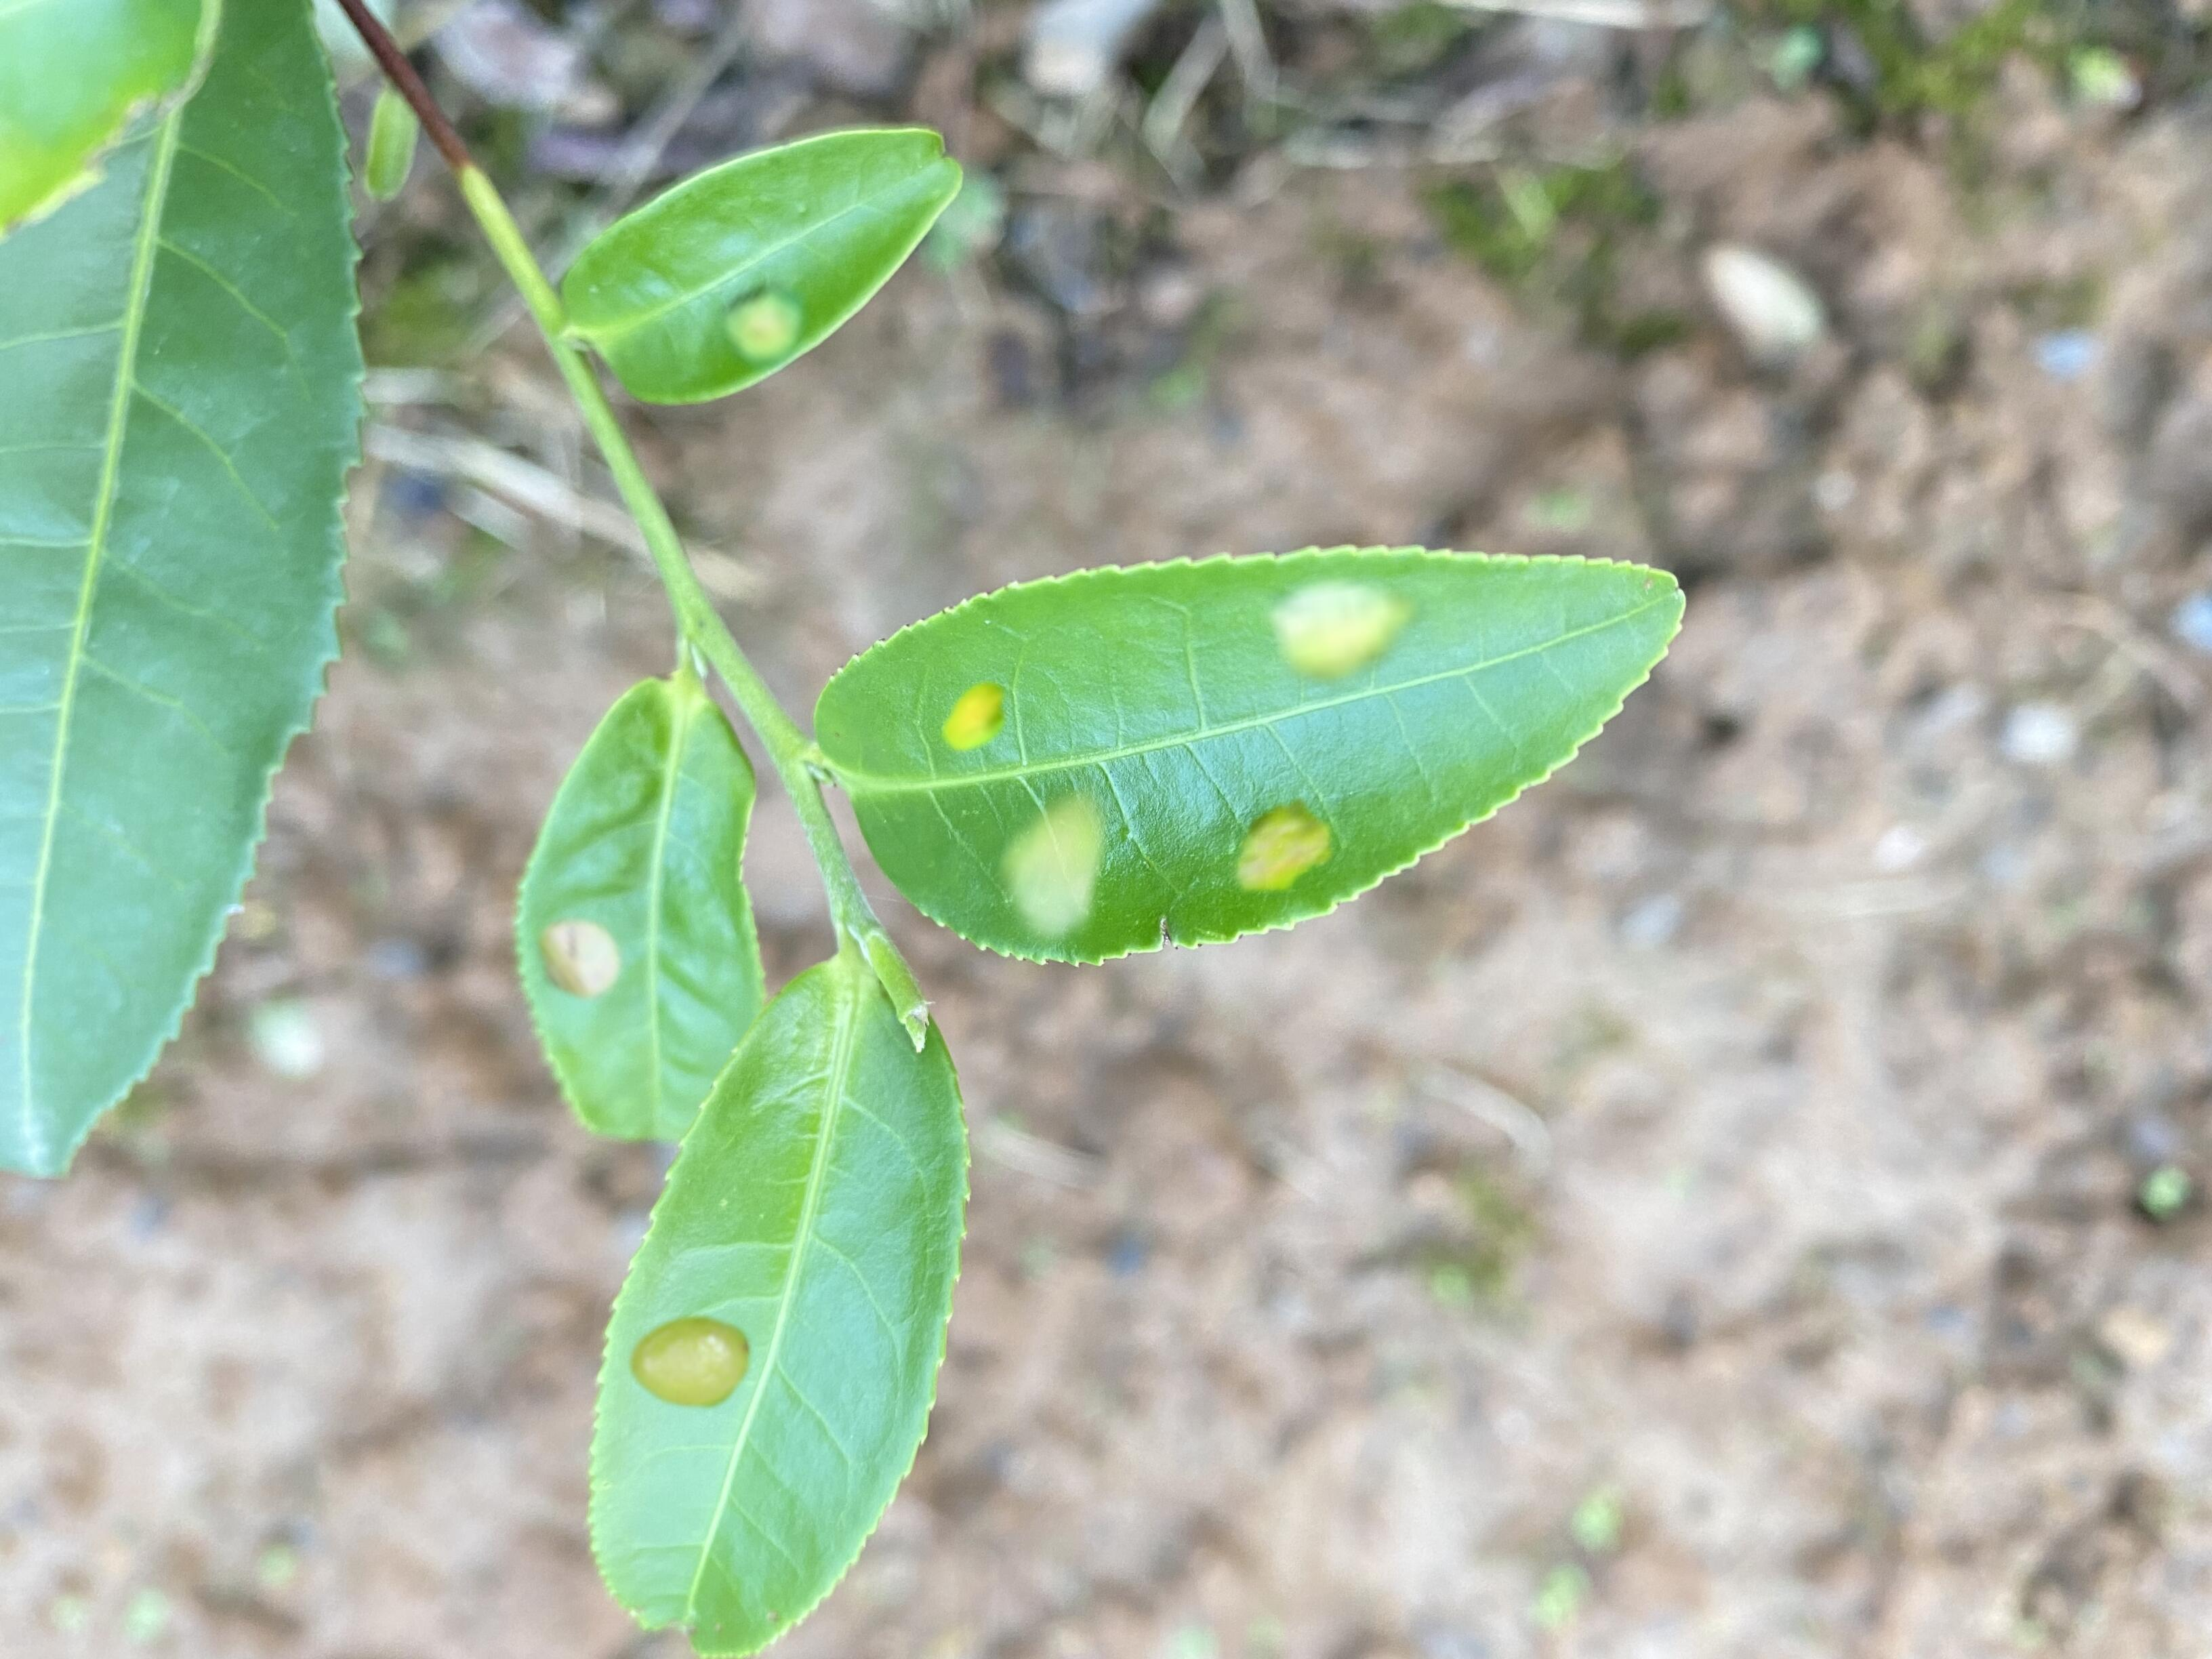chabing_high: (808, 544, 1689, 969)
chabing_low: (587, 964, 974, 1659), (510, 673, 765, 1145), (559, 124, 967, 406)
